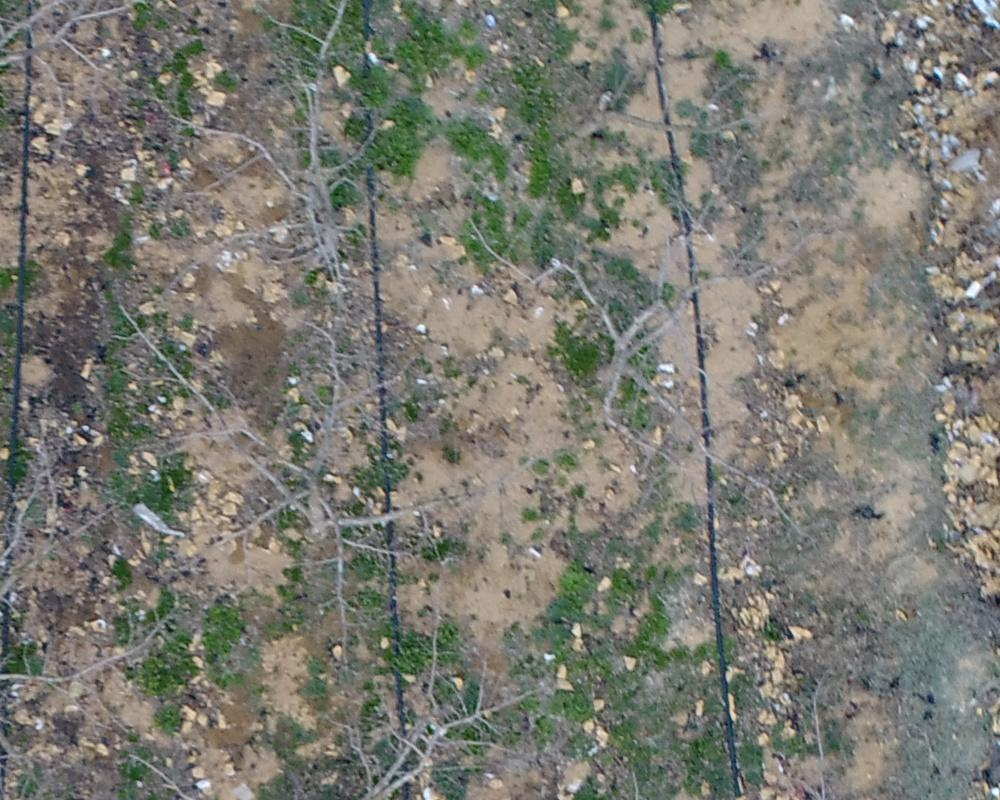apple: (466, 177, 838, 514), (160, 312, 479, 657), (173, 10, 400, 301), (115, 647, 567, 790), (536, 28, 795, 186)
